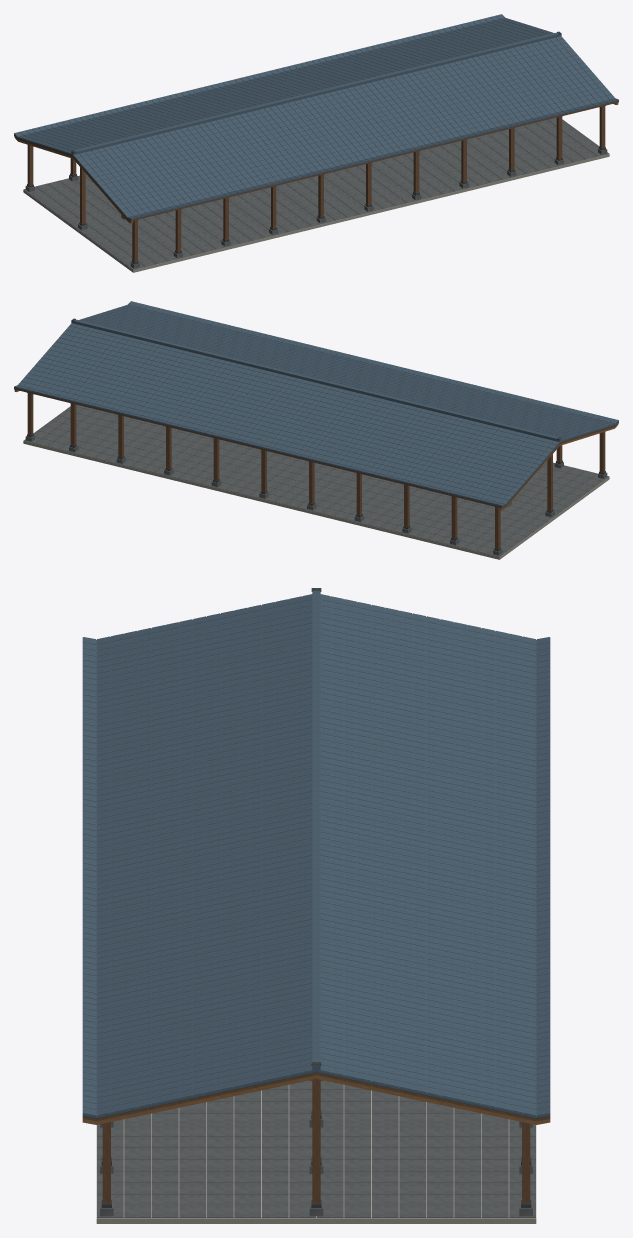
The picture shows the model from 3 angles, top to bottom: view 1: azimuth 30°, elevation 25°; view 2: azimuth 150°, elevation 25°; view 3: azimuth 270°, elevation 25°; orthographic projection. The views are drawn at different scales.
Visible parts, largest first — view 1: 旧住宅单/双脊连续屋面, 石铺面与混凝土楼板 (×22), 木柱、石础与金属抱箍; view 2: 旧住宅单/双脊连续屋面, 石铺面与混凝土楼板 (×22), 木柱、石础与金属抱箍; view 3: 旧住宅单/双脊连续屋面, 石铺面与混凝土楼板 (×12), 木柱、石础与金属抱箍 (×3).
Part boxes in pixels (x1,y1,x2,y2): 旧住宅单/双脊连续屋面: [14, 14, 618, 223]; 石铺面与混凝土楼板 (×22): [23, 117, 609, 272]; 木柱、石础与金属抱箍: [78, 167, 87, 230]; 旧住宅单/双脊连续屋面: [14, 301, 618, 510]; 石铺面与混凝土楼板 (×22): [23, 404, 609, 559]; 木柱、石础与金属抱箍: [545, 454, 554, 517]; 旧住宅单/双脊连续屋面: [82, 588, 550, 1124]; 石铺面与混凝土楼板 (×12): [96, 1080, 536, 1223]; 木柱、石础与金属抱箍 (×3): [100, 1079, 532, 1216].
Size of the model in its own units: 32.8 by 5.32 by 13.6.
Materials: 9 (9 with a texture image).
